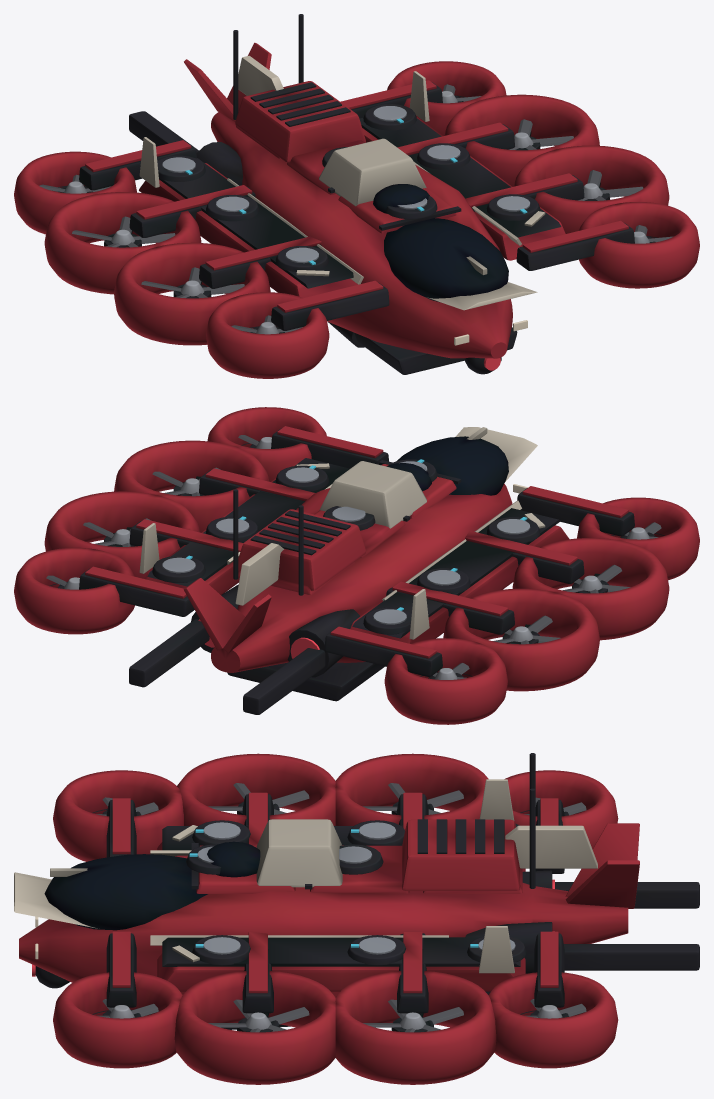
The model's file is ex_gunship_12.glb.
3 renders of one model, top to bottom at view 1: azimuth 30°, elevation 25°; view 2: azimuth 150°, elevation 25°; view 3: azimuth 270°, elevation 25°, orthographic. The views are drawn at different scales.
Parts seen in each view (by area): view 1: body, rotor_6, rotor_5, rotor_1, rotor_2; view 2: body, rotor_5, rotor_6, rotor_1, rotor_2; view 3: body, rotor_1, rotor_2, rotor_6, rotor_5, rotor_3, rotor_0.
Part boxes in pixels (x1=…): body: x1=14, y1=14, x2=699, y2=378; rotor_6: x1=72, y1=216, x2=175, y2=247; rotor_5: x1=141, y1=267, x2=244, y2=297; rotor_1: x1=578, y1=170, x2=643, y2=200; rotor_2: x1=509, y1=119, x2=573, y2=149; body: x1=14, y1=407, x2=699, y2=724; rotor_5: x1=563, y1=564, x2=630, y2=593; rotor_6: x1=493, y1=615, x2=560, y2=644; rotor_1: x1=152, y1=467, x2=220, y2=496; rotor_2: x1=83, y1=518, x2=150, y2=546; body: x1=14, y1=753, x2=699, y2=1084; rotor_1: x1=208, y1=999, x2=309, y2=1032; rotor_2: x1=363, y1=999, x2=463, y2=1032; rotor_6: x1=363, y1=783, x2=463, y2=814; rotor_5: x1=208, y1=783, x2=309, y2=814; rotor_3: x1=525, y1=999, x2=586, y2=1018; rotor_0: x1=97, y1=999, x2=158, y2=1018.
Bounding box in the file's own units: 17.35 × 6.43 × 17.31.
